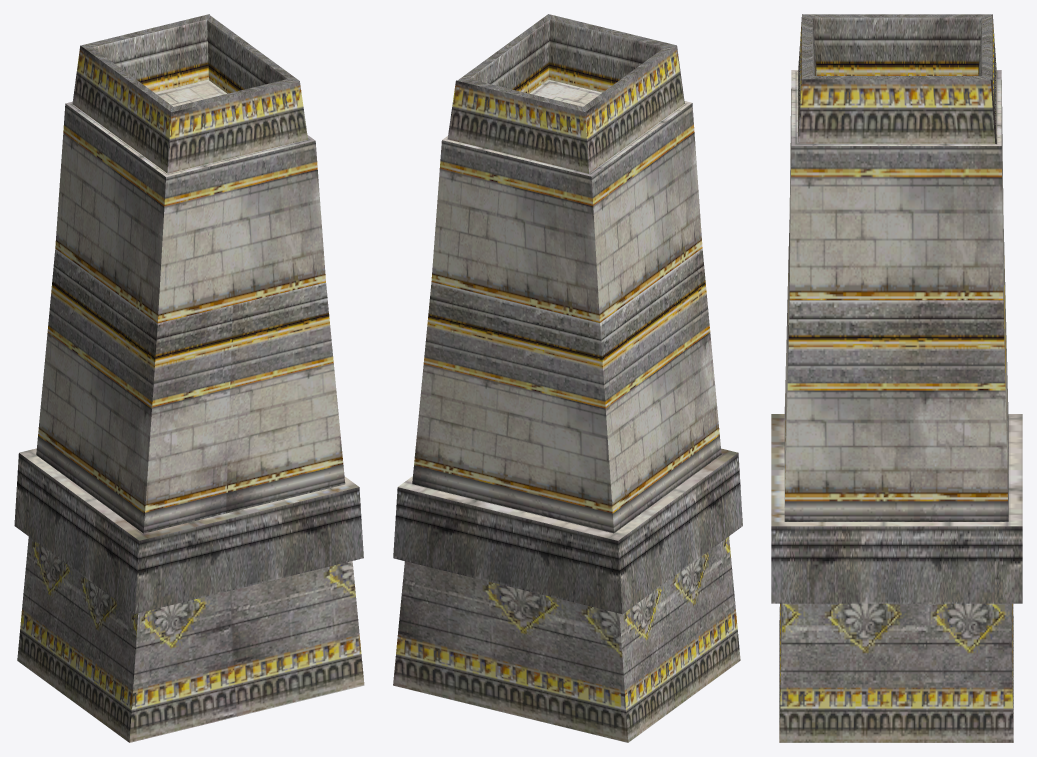
File: troy_wall_connector_base.glb
The picture shows the model from 3 angles, left to right: view 1: azimuth 30°, elevation 25°; view 2: azimuth 150°, elevation 25°; view 3: azimuth 270°, elevation 25°; orthographic projection. The views are drawn at different scales.
Parts seen in each view (by area): view 1: MeshRoot; view 2: MeshRoot; view 3: MeshRoot.
Boxes of the visible parts, x1=… form: MeshRoot: x1=14, y1=14, x2=364, y2=742; MeshRoot: x1=393, y1=14, x2=742, y2=742; MeshRoot: x1=771, y1=14, x2=1022, y2=742.
Bounding box in the file's own units: 4.98 × 12.36 × 4.42.
Materials: 2 (2 with a texture image).
